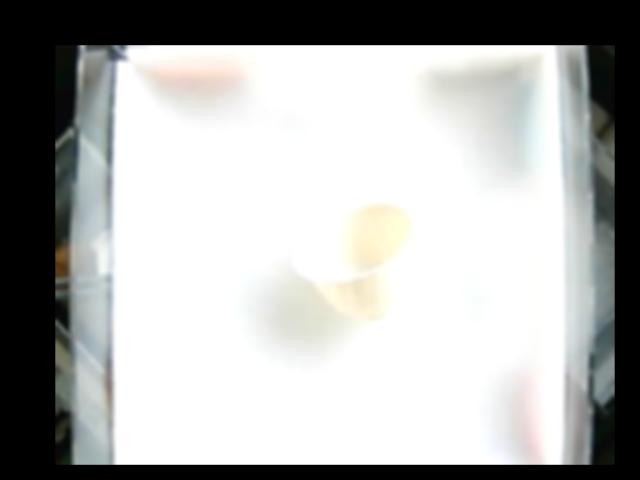Cup: (291, 198, 419, 317)
